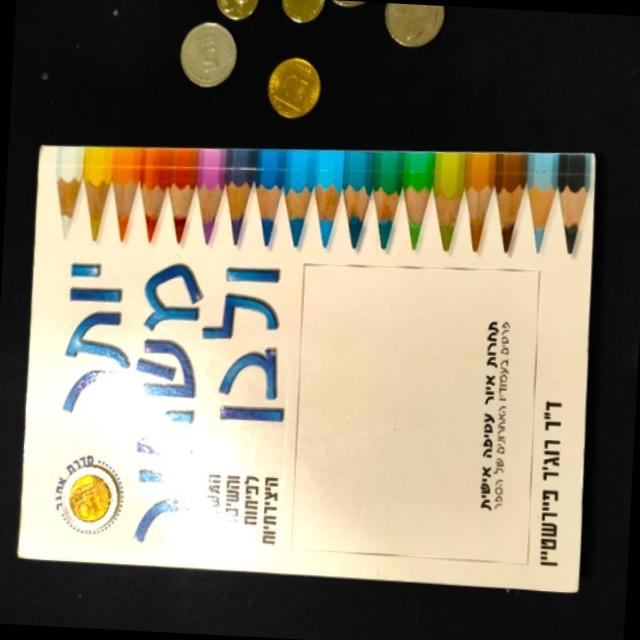10-shekel: (57, 467, 127, 536)
5-shekel: (176, 25, 246, 93), (377, 5, 461, 50)
